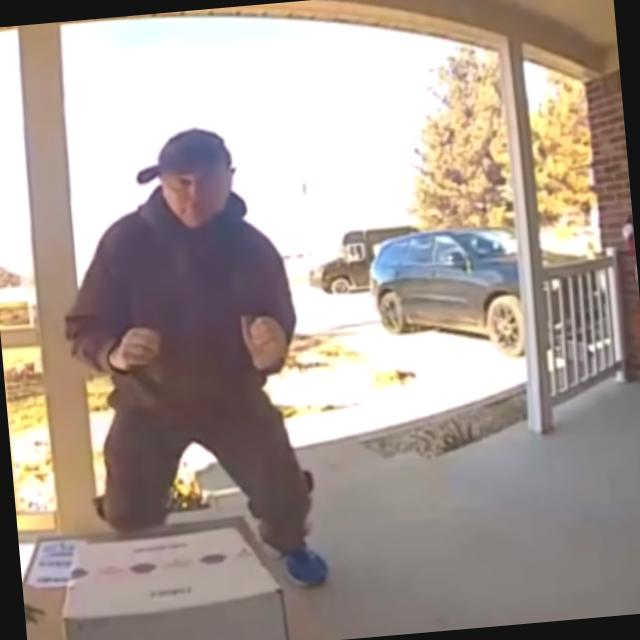person: (49, 120, 328, 607)
